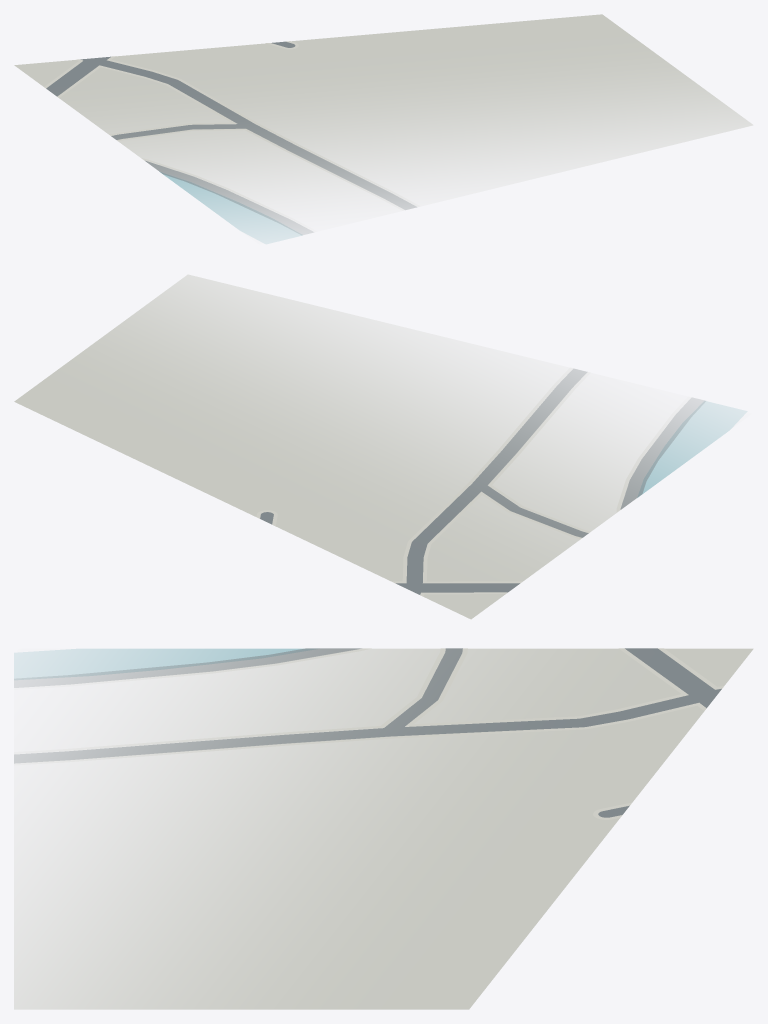
3 renders of one model, top to bottom at view 1: azimuth 30°, elevation 25°; view 2: azimuth 150°, elevation 25°; view 3: azimuth 270°, elevation 25°, orthographic. The views are drawn at different scales.
Parts seen in each view (by area): view 1: city; view 2: city; view 3: city.
Boxes of the visible parts, x1,y1,x2,y2 form: city: (14, 14, 752, 243); city: (14, 274, 746, 619); city: (14, 648, 753, 1009).
Bounding box in the file's own units: 500 × 0.4 × 433.
